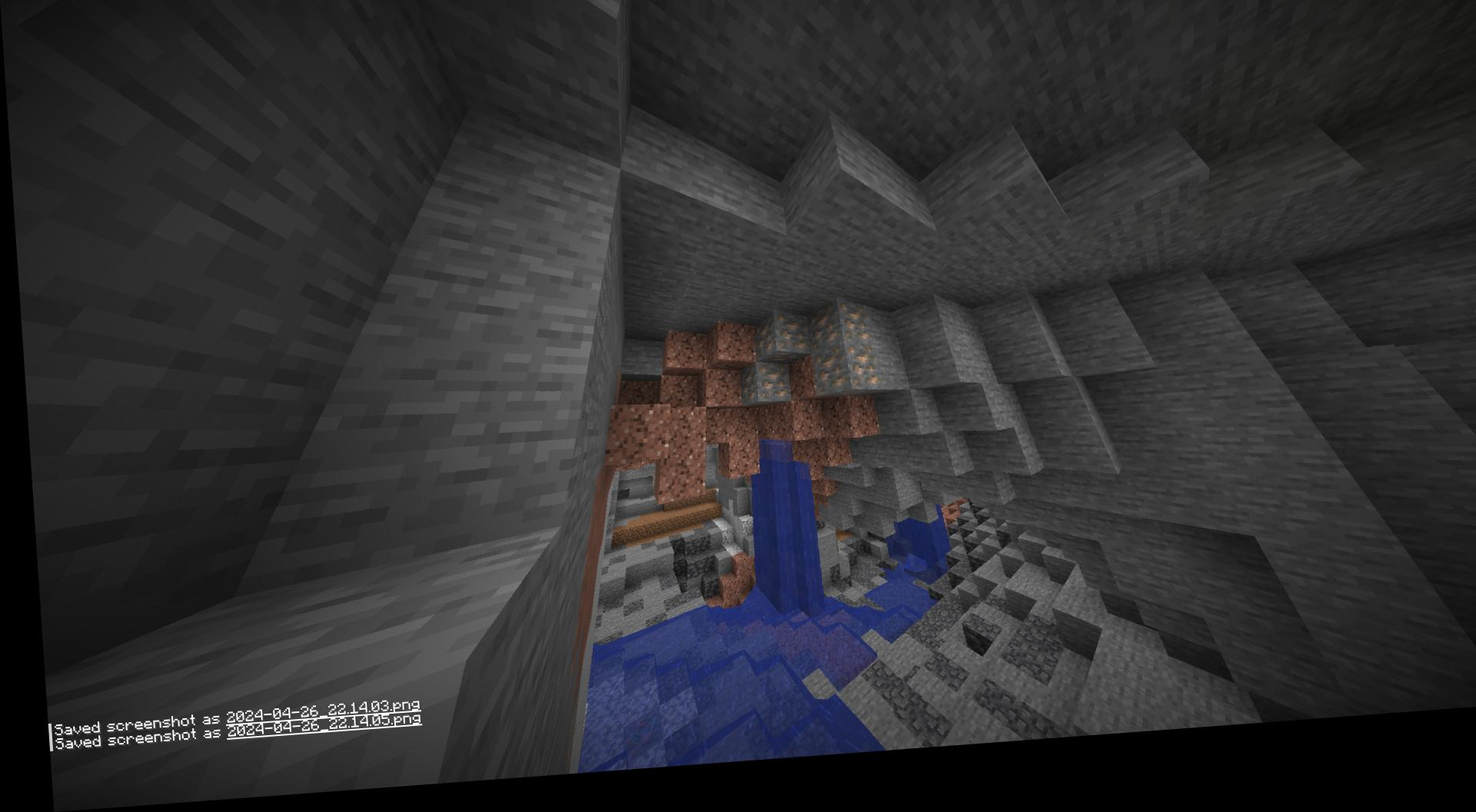iron ore: (804, 360, 875, 416), (802, 308, 866, 363), (751, 324, 804, 374), (738, 370, 784, 417)
